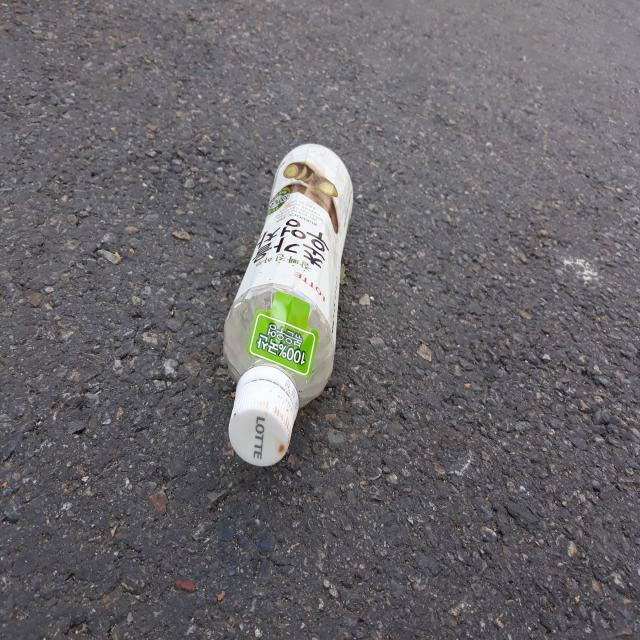plastic: (224, 143, 353, 466)
